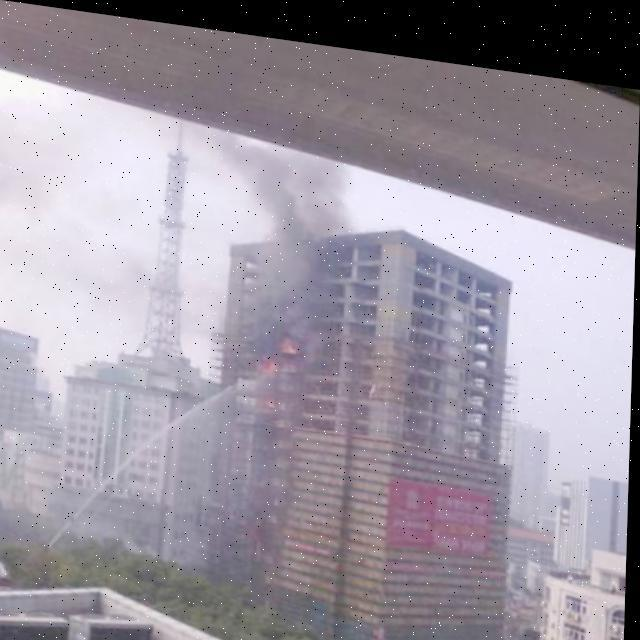Fire: (254, 320, 308, 408)
